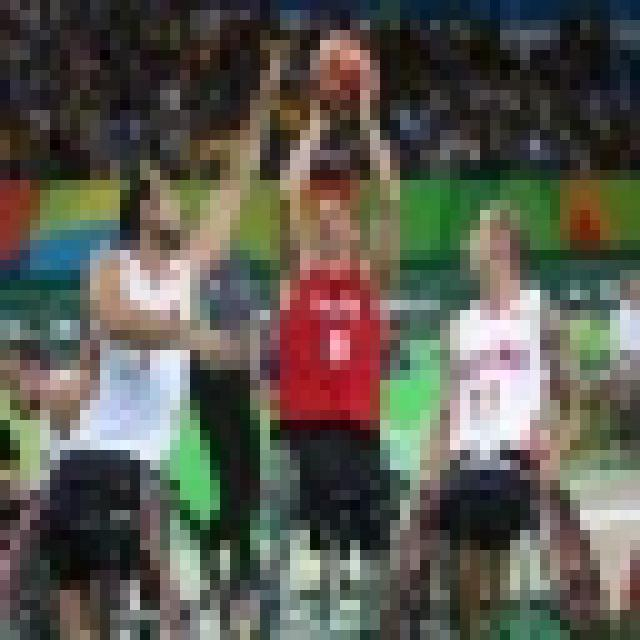wheelchairs: (394, 439, 611, 640), (0, 457, 208, 640), (246, 450, 398, 640)
